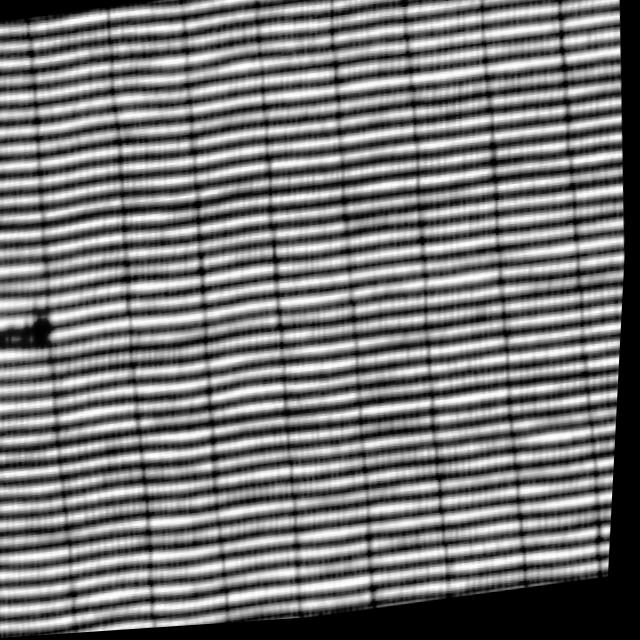Stitch: (0, 276, 74, 393)
